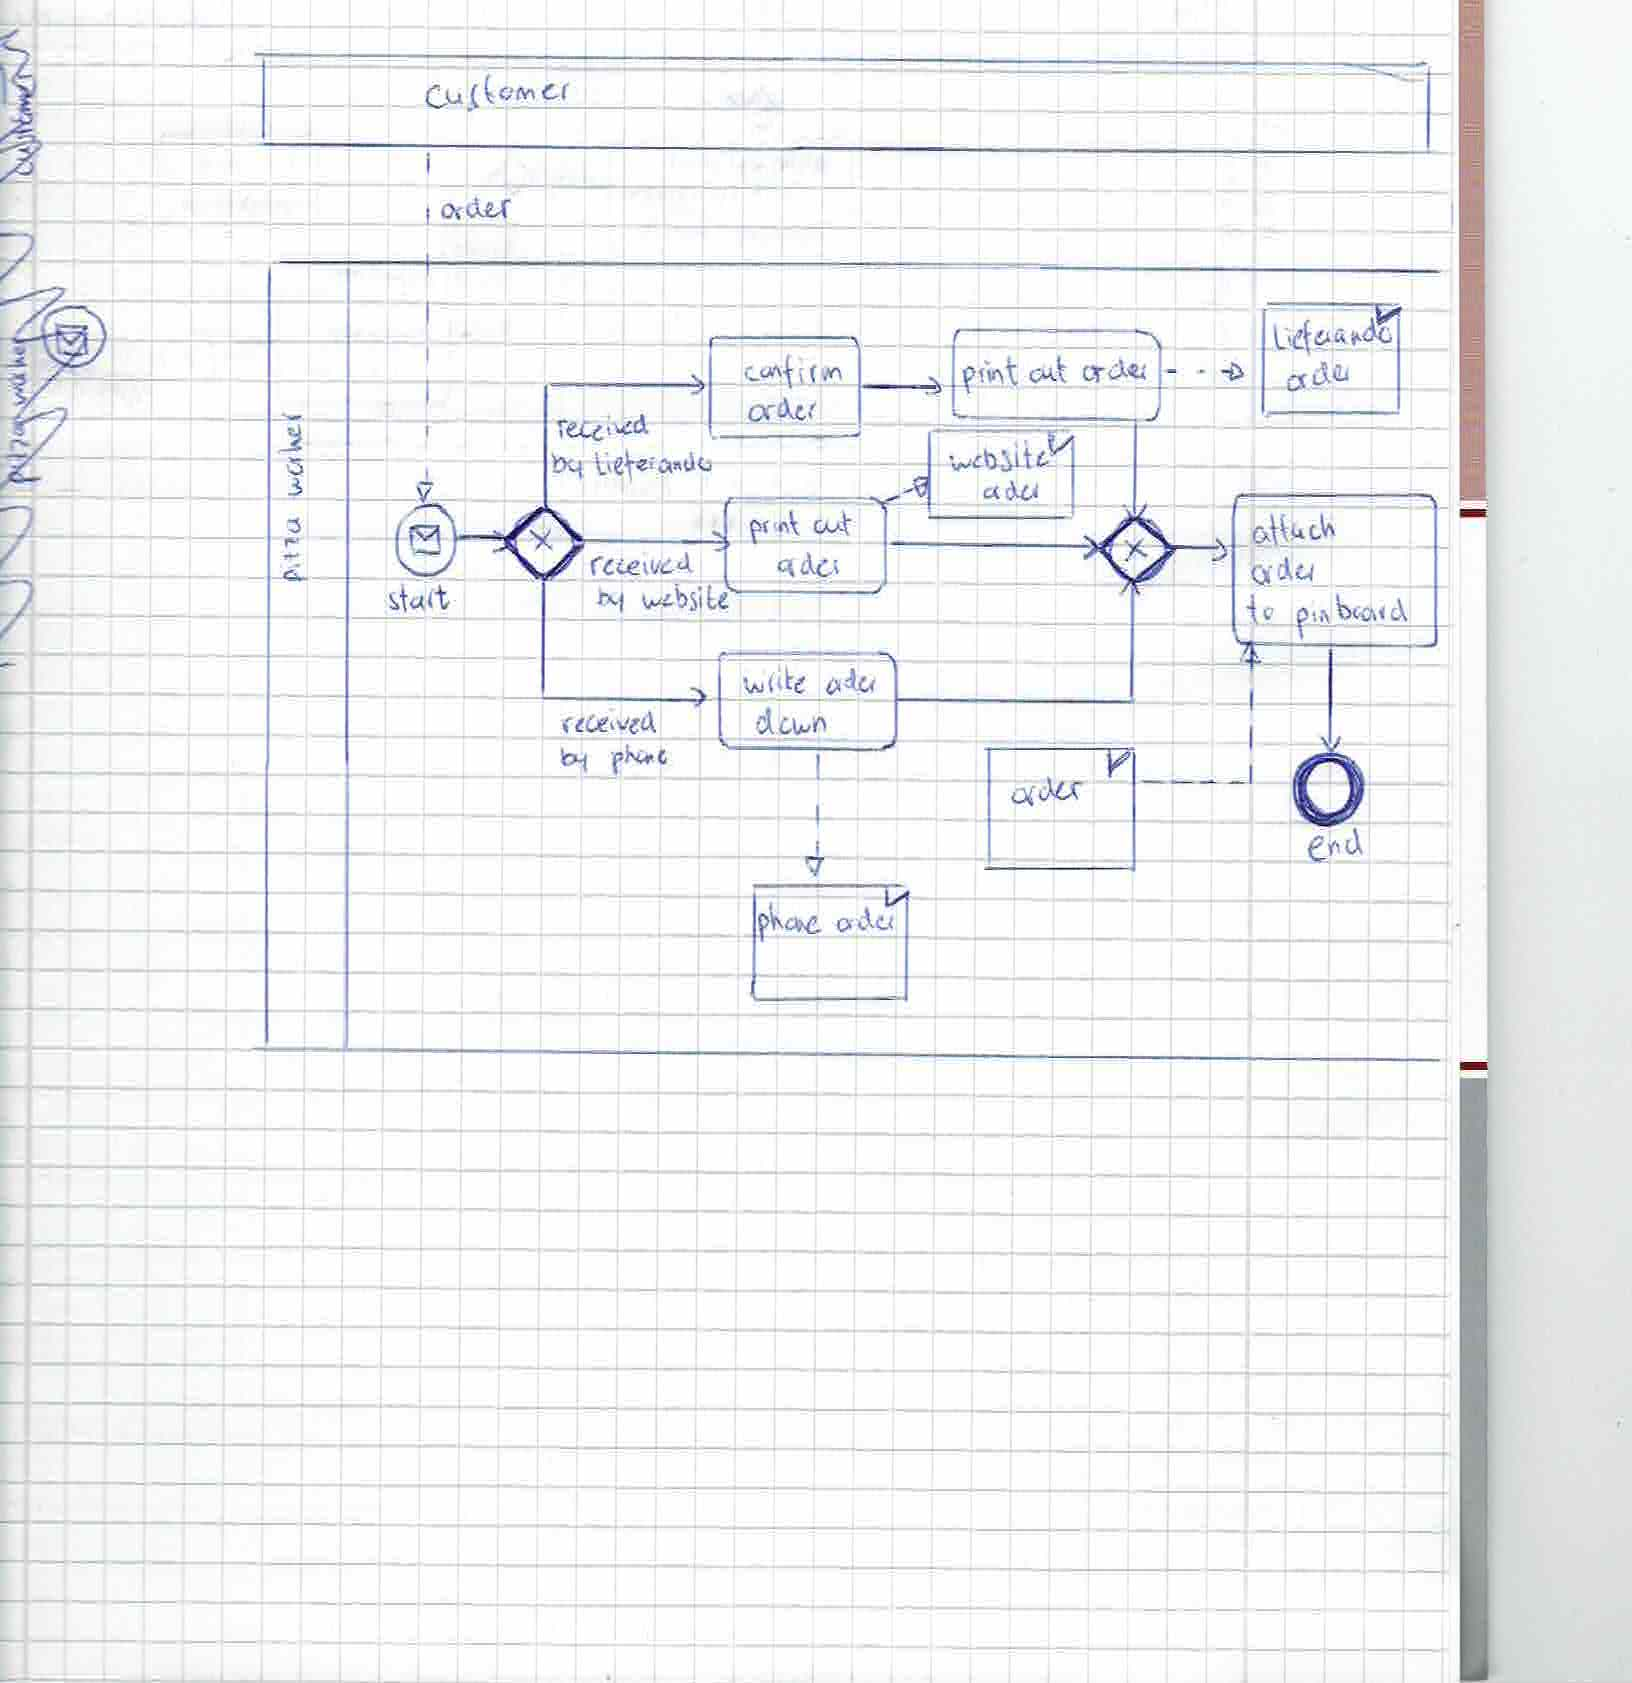Lieferando: (1270, 311, 1395, 356), (587, 450, 718, 481)
Pizza: (278, 509, 307, 590)
attach: (1246, 506, 1343, 553)
by: (550, 447, 588, 485), (589, 582, 633, 614), (556, 744, 600, 774)
confirm: (737, 350, 850, 390)
customer: (423, 70, 573, 121)
down: (746, 708, 833, 740)
end: (1301, 829, 1366, 870)
order: (1006, 772, 1087, 811), (740, 393, 826, 427), (1279, 358, 1356, 395), (1078, 355, 1156, 390), (1247, 554, 1321, 590), (768, 551, 848, 584), (831, 905, 898, 941), (435, 195, 515, 225), (819, 666, 885, 702), (977, 478, 1046, 506)
out: (1025, 354, 1070, 393), (807, 509, 860, 543)
phone: (755, 899, 828, 943), (607, 741, 672, 774)
pinboard: (1290, 593, 1410, 640)
print: (959, 352, 1021, 395), (743, 507, 805, 546)
received: (582, 549, 699, 581), (552, 412, 651, 447), (555, 708, 661, 740)
start: (383, 583, 454, 615)
to: (1240, 592, 1282, 628)
website: (943, 438, 1053, 476), (635, 584, 732, 614)
worker: (277, 410, 309, 502)
write: (737, 666, 811, 697)
